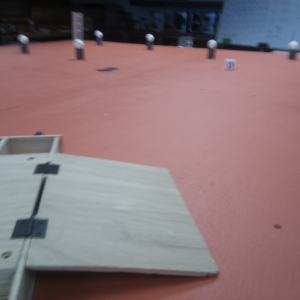blockD: (224, 58, 239, 70)
corner: (72, 11, 83, 39)
obstacle: (18, 34, 31, 53), (74, 39, 85, 60), (208, 38, 216, 60), (289, 40, 297, 60), (146, 33, 154, 51), (93, 31, 103, 44)
slope: (34, 155, 218, 297)
start: (97, 64, 119, 73)
